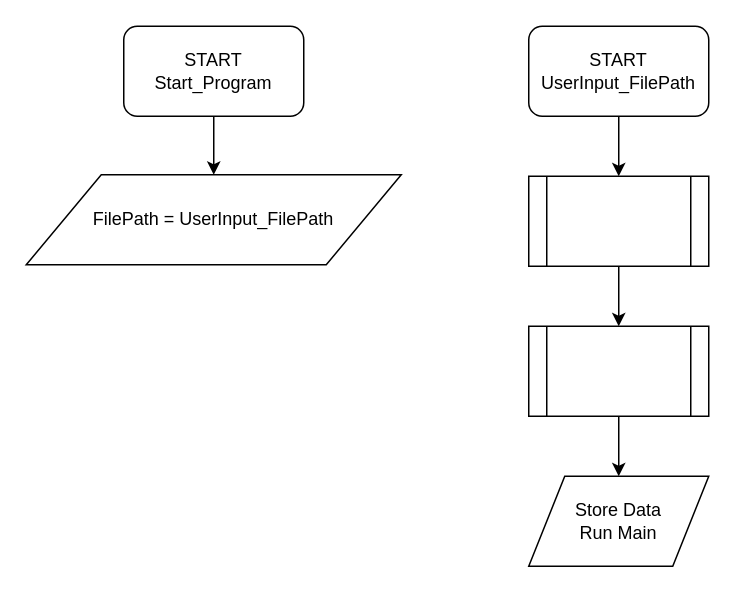
The diagram is 735 pixels wide and 593 high, and some of its shapes have lost their labels. Here are the shapes that lost their labels. From the top down, the box of each, then its label:
(527, 175, 709, 266): File directory of the master file
(527, 325, 709, 416): What row to start copying from
